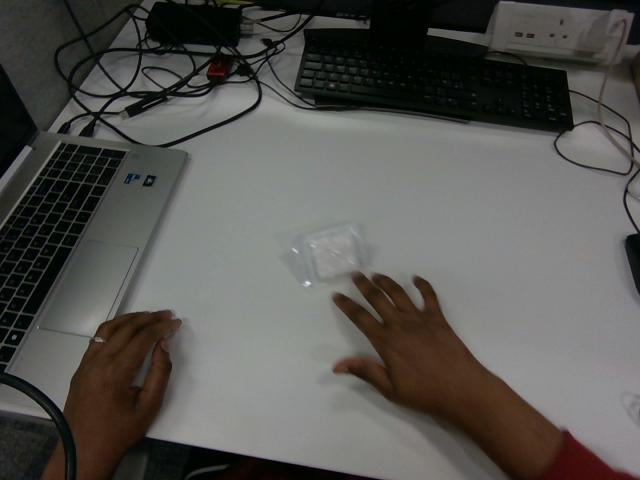gauze: (293, 222, 365, 286)
